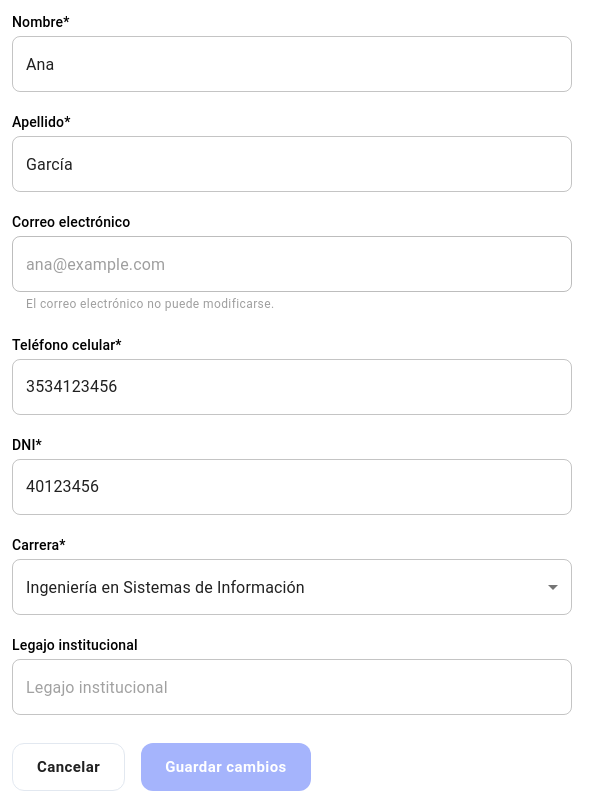
EditProfileForm › mantiene Guardar cambios deshabilitado sin cambios y lo habilita al editar
Check: the button "Guardar cambios" is disabled, box 141,743 -> 311,791
Type "9" into the field with placeholder "Teléfono celular" below "Teléfono celular*" at {"x": 292, "y": 387}, box 12,359 -> 572,415
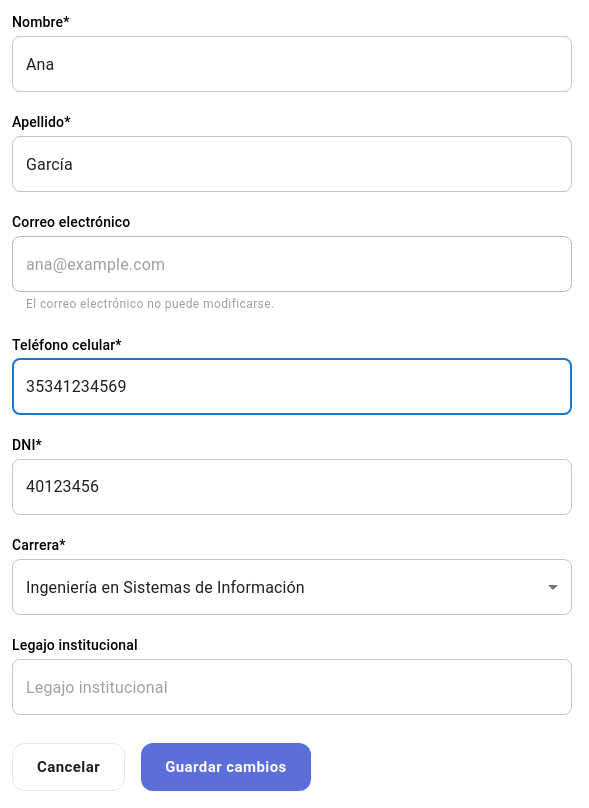
Check: the button "Guardar cambios" is enabled, box 141,743 -> 311,791
